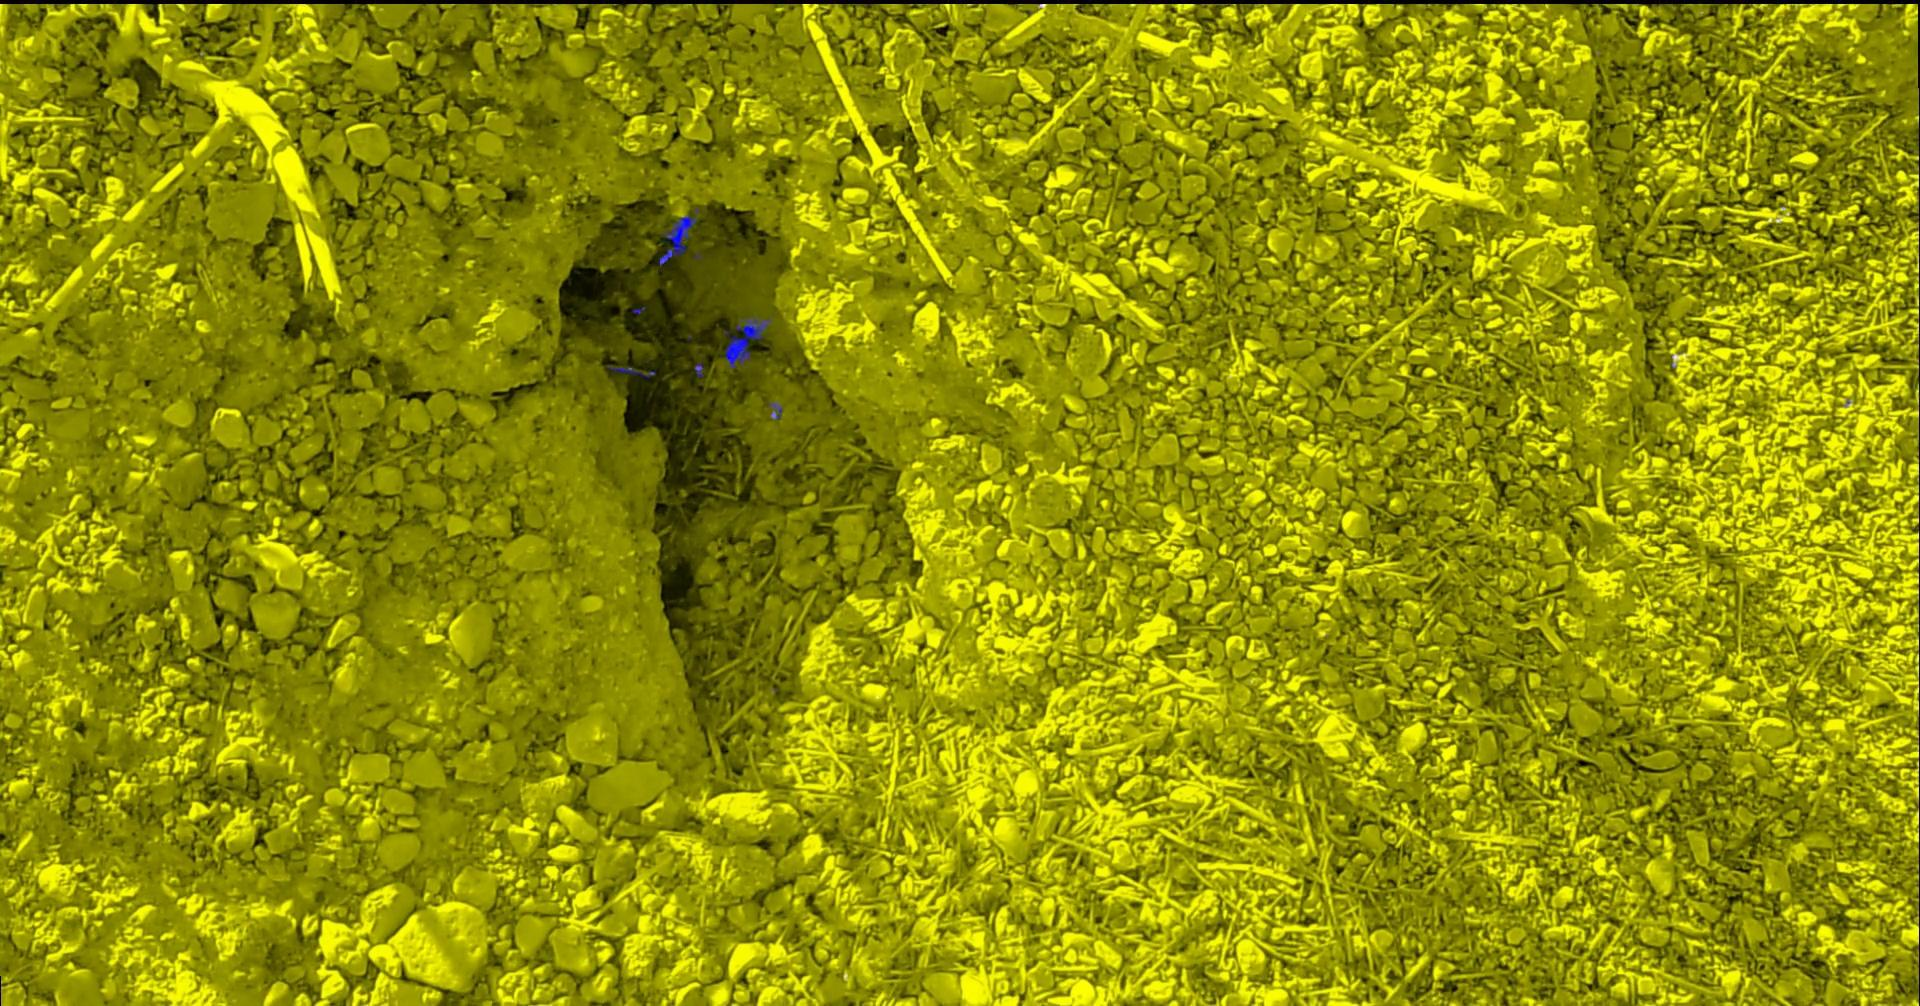ant: (724, 316, 771, 368), (657, 213, 695, 265), (607, 365, 655, 377), (768, 401, 782, 419)
